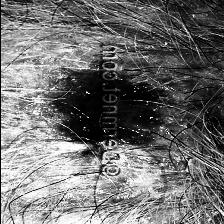Potentially Malignant Skin Tumors: (22, 140, 168, 208), (52, 67, 166, 152)
